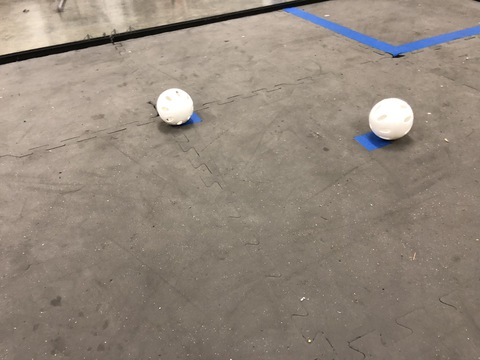ball: (361, 94, 423, 153), (145, 82, 196, 134)
